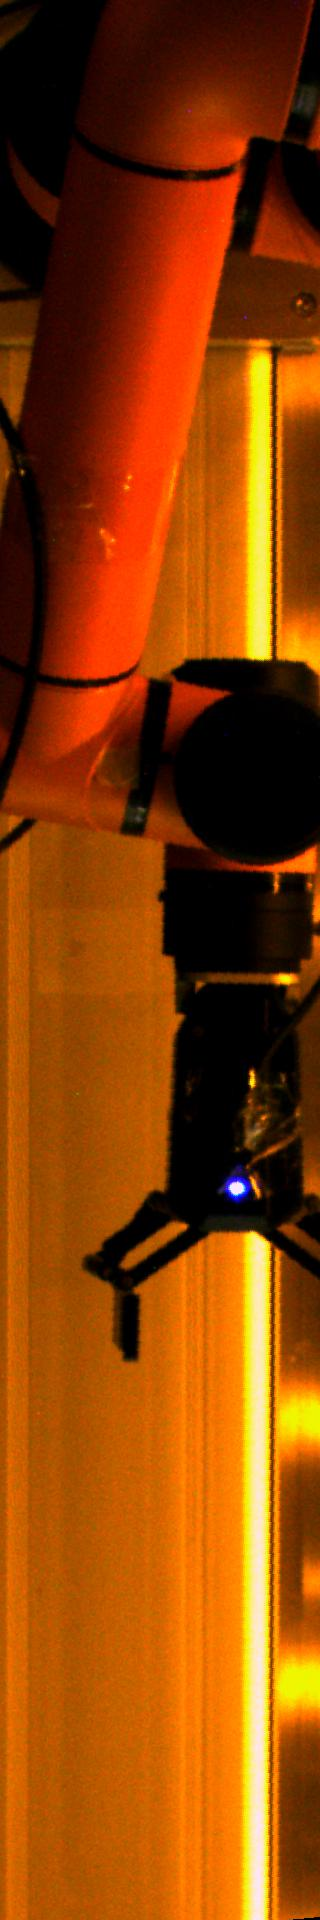keyPoint_1: (222, 1171, 253, 1201)
